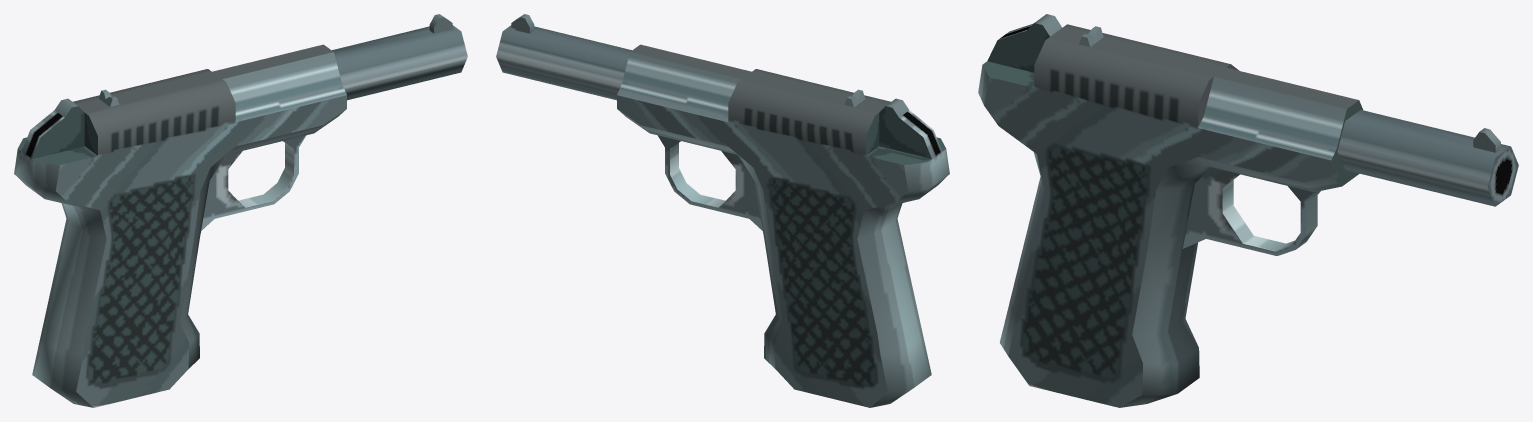
File: a gun.gltf
3 views of the same model, side by side, from view 1: azimuth 30°, elevation 25°; view 2: azimuth 150°, elevation 25°; view 3: azimuth 330°, elevation 25° (orthographic). The views are drawn at different scales.
Parts seen in each view (by area): view 1: Cube; view 2: Cube; view 3: Cube.
Part boxes in pixels (x1,y1,x2,y2): Cube: (14, 14, 467, 407); Cube: (496, 14, 949, 407); Cube: (978, 14, 1518, 407).
Bounding box in the file's own units: 0.9253 × 0.5997 × 0.1364.
1 material, 1 textured.
